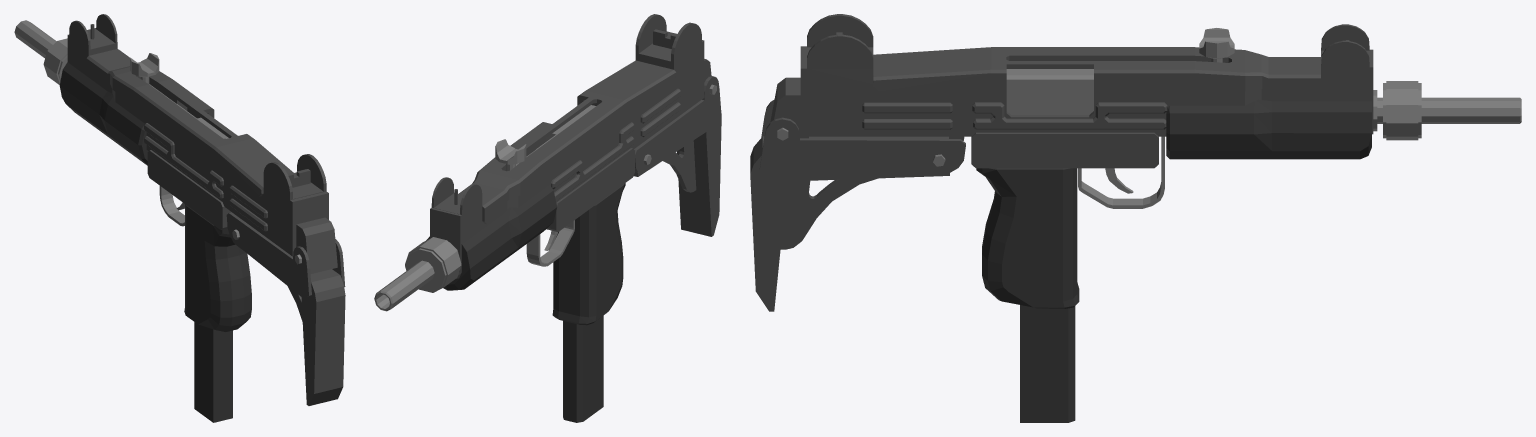
The model's file is uzi.glb.
The picture shows the model from 3 angles, left to right: view 1: azimuth 30°, elevation 25°; view 2: azimuth 150°, elevation 25°; view 3: azimuth 270°, elevation 25°; orthographic projection. The views are drawn at different scales.
Visible parts, largest first — view 1: Uzi, Uzi_Stock, Uzi_Magazine, Uzi_Bolt; view 2: Uzi, Uzi_Stock, Uzi_Magazine, Uzi_Bolt; view 3: Uzi, Uzi_Stock, Uzi_Magazine, Uzi_Bolt.
Part boxes in pixels (box(x1,y1,x2,y2)): Uzi: box(14, 14, 337, 331); Uzi_Stock: box(226, 212, 345, 405); Uzi_Magazine: box(194, 322, 232, 422); Uzi_Bolt: box(130, 53, 228, 138); Uzi: box(374, 14, 711, 325); Uzi_Stock: box(633, 76, 721, 236); Uzi_Magazine: box(563, 315, 603, 422); Uzi_Bolt: box(495, 105, 595, 171); Uzi: box(770, 14, 1521, 308); Uzi_Stock: box(750, 99, 965, 311); Uzi_Magazine: box(1020, 305, 1075, 422); Uzi_Bolt: box(1006, 28, 1234, 114).
Size of the model in its own units: 0.0446 by 0.2634 by 0.47.
1 material, 1 textured.
